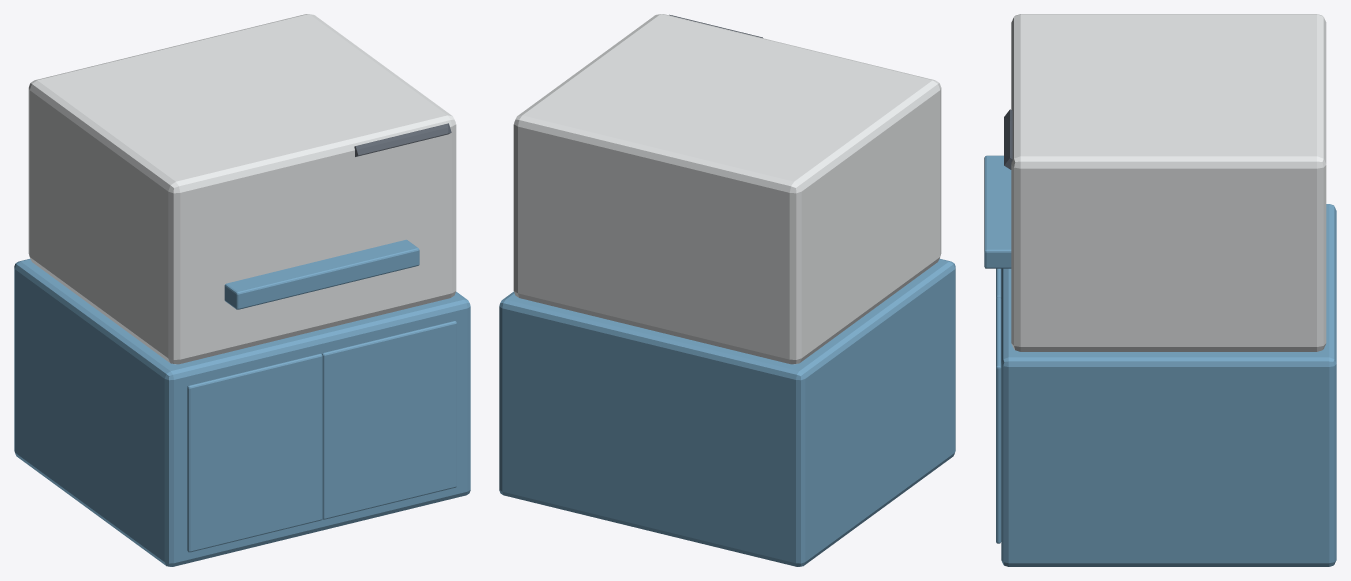
File: print___utility_office_asset_library_91.glb
3 renders of one model, left to right at view 1: azimuth 30°, elevation 25°; view 2: azimuth 150°, elevation 25°; view 3: azimuth 270°, elevation 25°, orthographic. The views are drawn at different scales.
Parts seen in each view (by area): view 1: Cube; view 2: Cube; view 3: Cube.
Part boxes in pixels (x1,y1,x2,y2): Cube: (14, 14, 470, 566); Cube: (499, 14, 955, 566); Cube: (984, 14, 1336, 566).
Bounding box in the file's own units: 0.72 × 0.8526 × 0.672.
